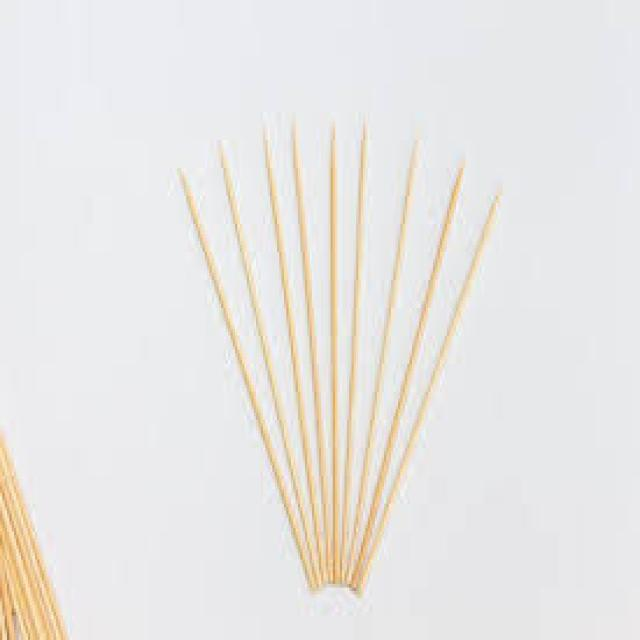stick: (354, 182, 507, 600), (176, 163, 318, 598), (349, 156, 465, 590), (217, 138, 323, 593), (345, 137, 417, 583), (260, 123, 329, 584), (292, 118, 332, 590), (339, 117, 368, 587), (331, 123, 340, 589)
